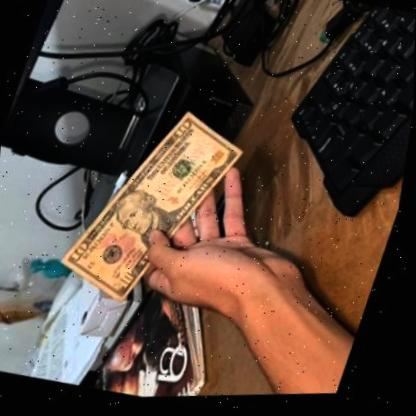ten-front: (45, 83, 258, 331)
